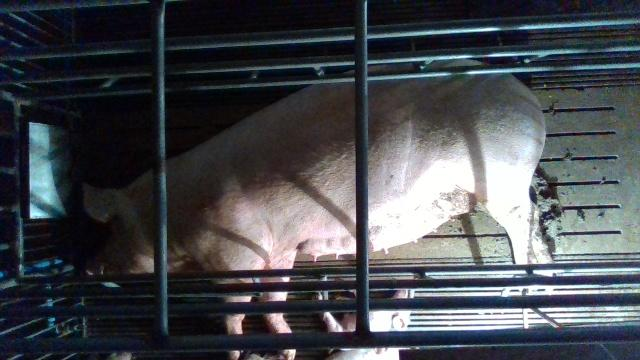piglet: (314, 275, 415, 357)
sow-sleep-lactate: (78, 61, 546, 359)
